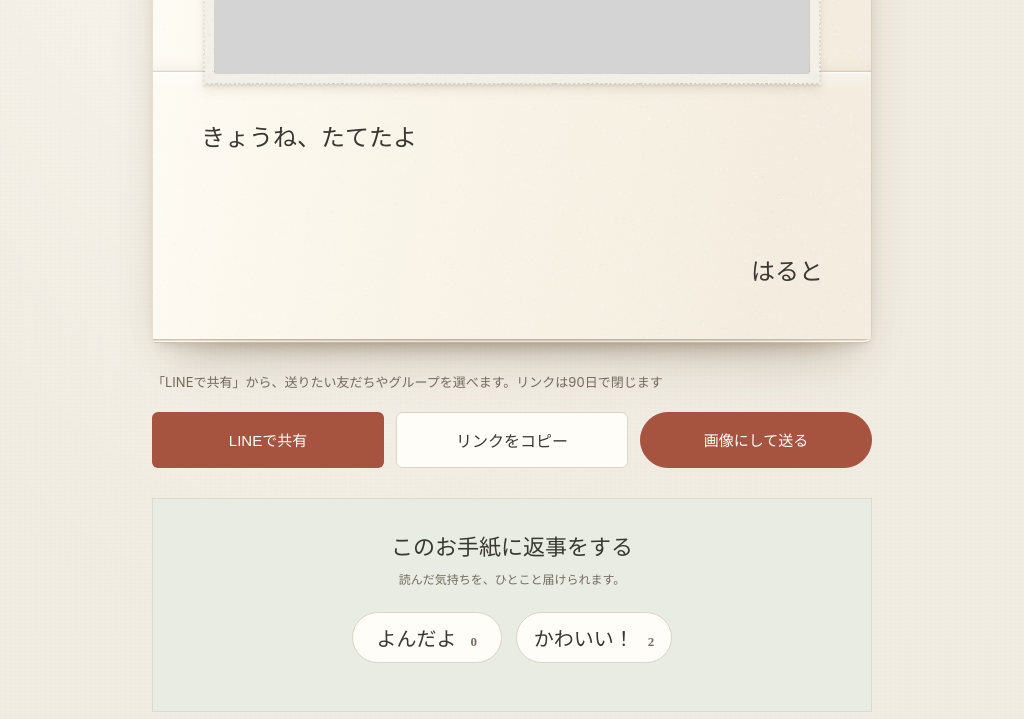
it: LetterPage › keeps the prepared file available when sharing fails
(page scrolled)
Click the button "画像にして送る". click: coordinates (756, 440)
box: [640,412,872,468]
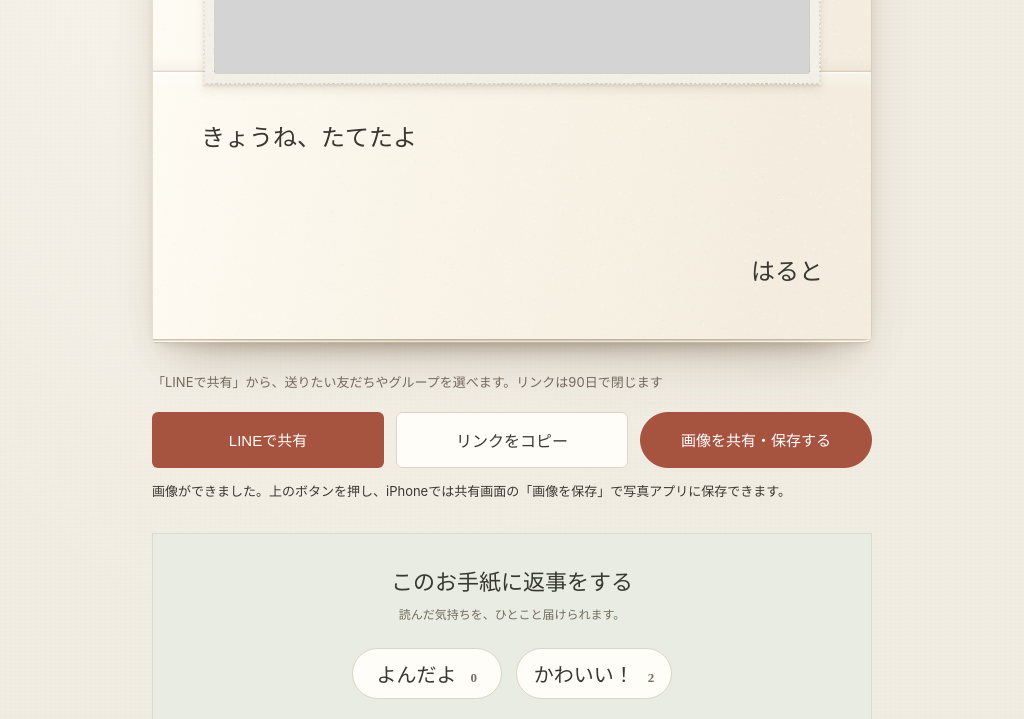
Click the button "画像を共有・保存する". click: coordinates (756, 440)
box: [640,412,872,468]
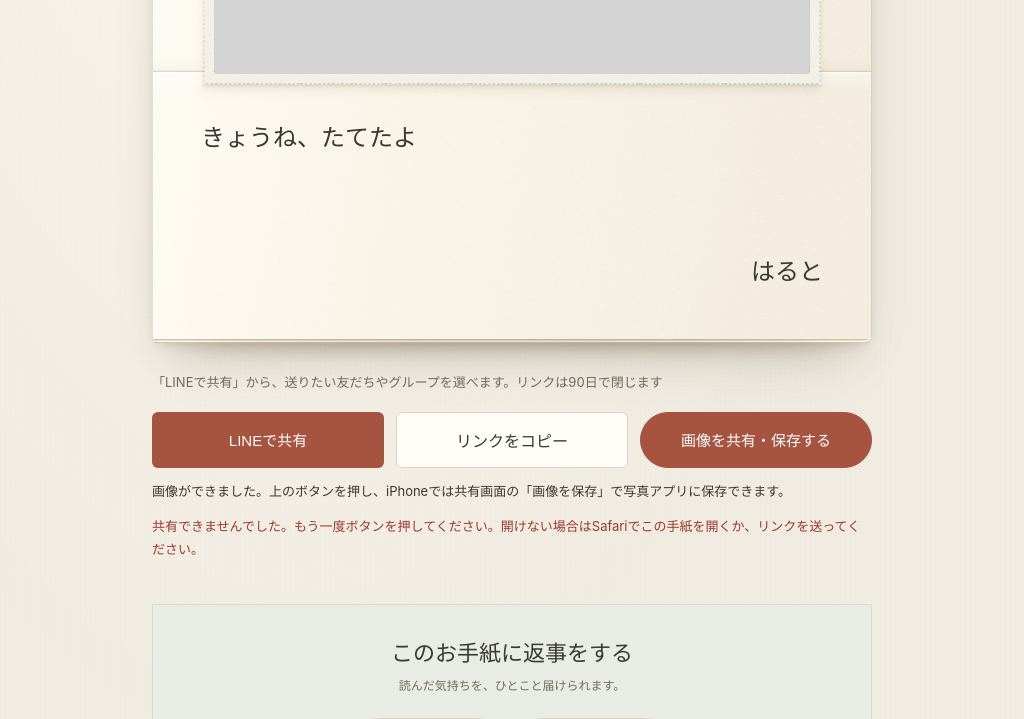
Expected: the button "リンクをコピー" is enabled, [396,412,628,468]
Expected: the text "共有できませんでした。もう一度ボタンを押してください。開けない場合はSafariでこの手紙を開くか、リンクを送ってください。" is shown, [152,515,872,562]
